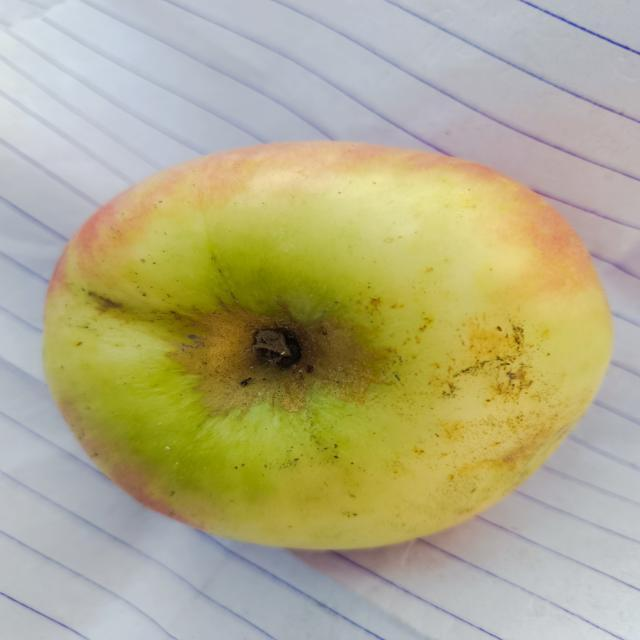Fresh Apple: (42, 134, 618, 554)
